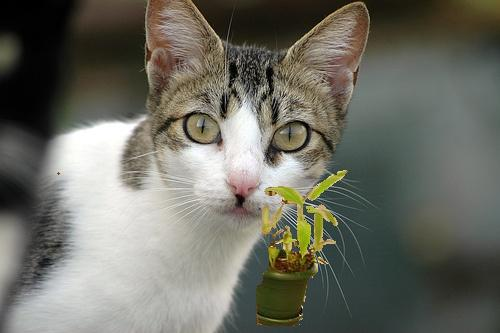tampered: (58, 171, 348, 326)
